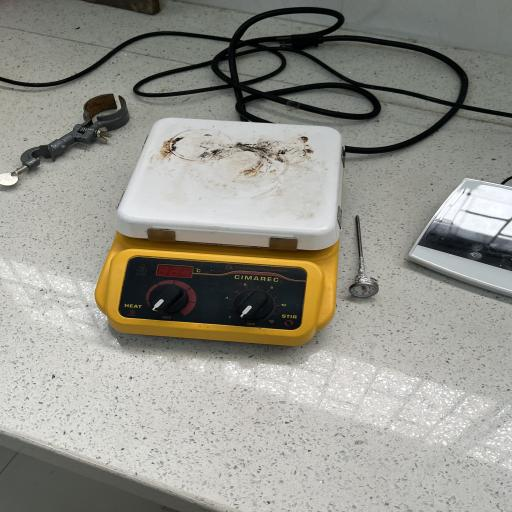Plancha_Agitacion_Cimarec: (80, 104, 372, 358)
